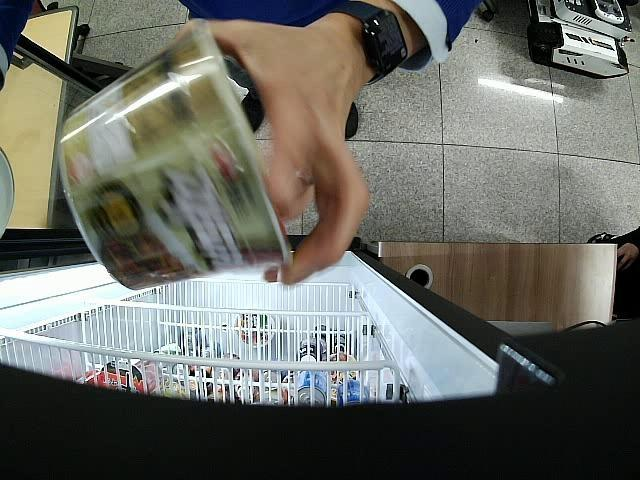03_chapagetti_L: (57, 22, 293, 290)
